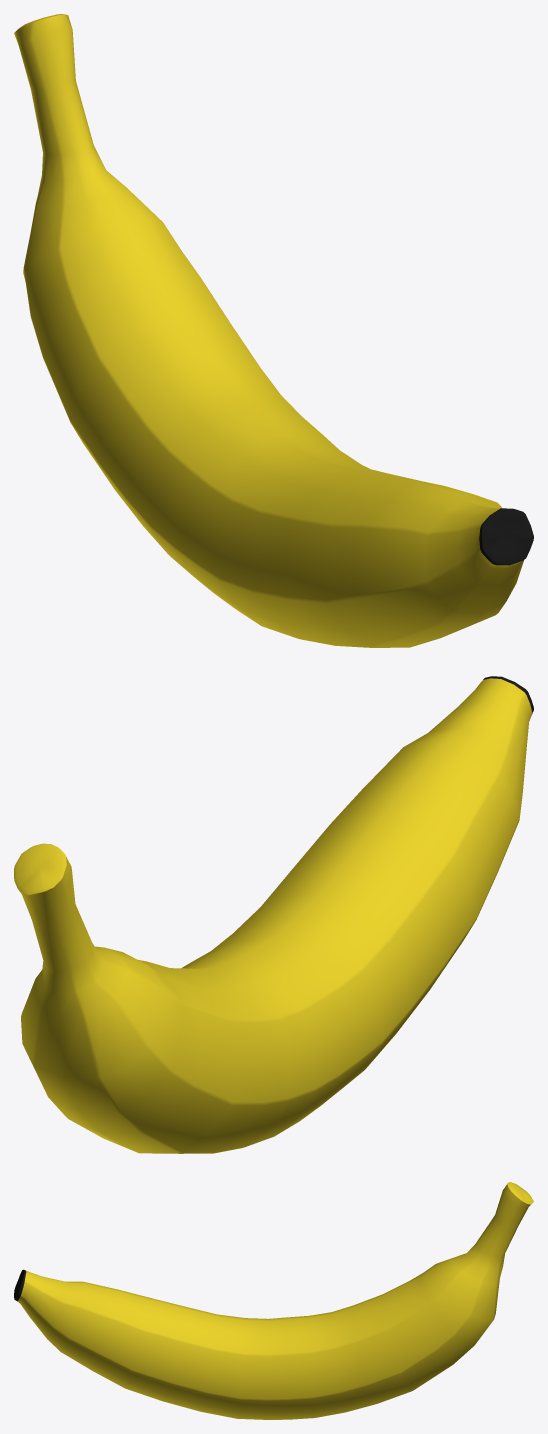
The model's file is banan.fbx.
3 views of the same model, one above another, from view 1: azimuth 30°, elevation 25°; view 2: azimuth 150°, elevation 25°; view 3: azimuth 270°, elevation 25° (orthographic). The views are drawn at different scales.
Parts seen in each view (by area): view 1: Circle; view 2: Circle; view 3: Circle.
Part boxes in pixels (x1,y1,x2,y2): Circle: [14, 14, 533, 647]; Circle: [14, 676, 533, 1153]; Circle: [14, 1182, 533, 1419].
Bounding box in the file's own units: 88.51 × 219 × 450.
